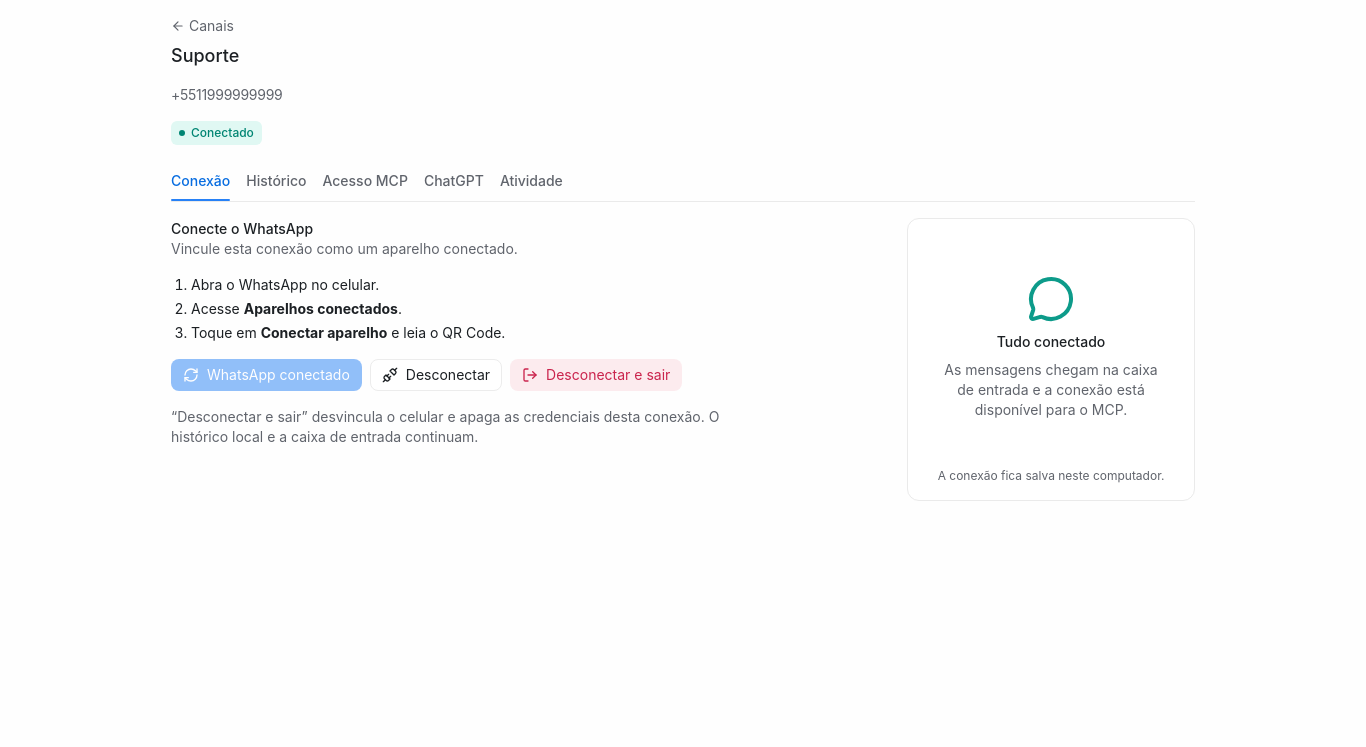
WhatsApp history viewer › filters chats, opens messages and pages back to older ones
Click the tab "Histórico".
click(276, 181)  # box [246,161,306,201]
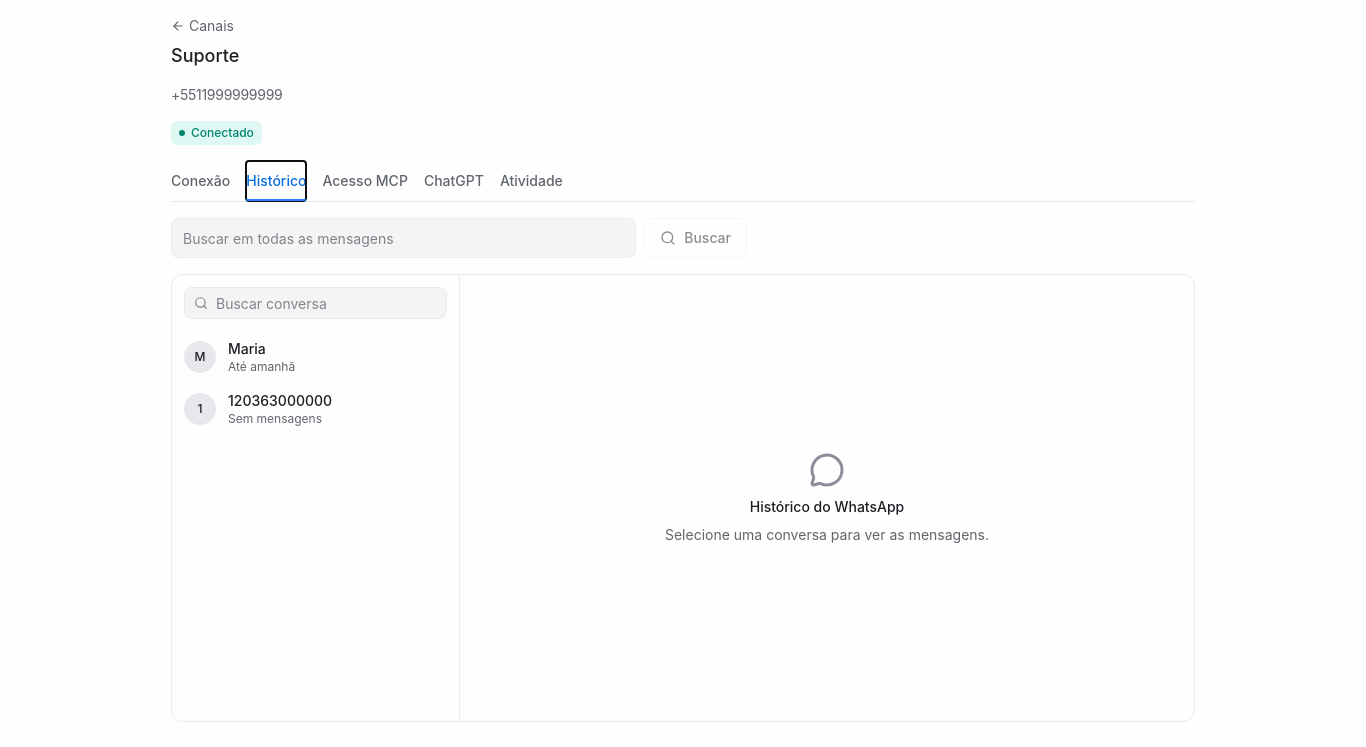
Expected: the text "Maria" is shown, [228,340,266,357]
Expected: the text "120363000000" is shown, [228,391,332,411]
Expected: the text "Sem mensagens" is shown, [228,411,332,427]
Type "mar" into the field labelled "Buscar conversa".
click(316, 303); type("mar")  # box [184,287,447,319]
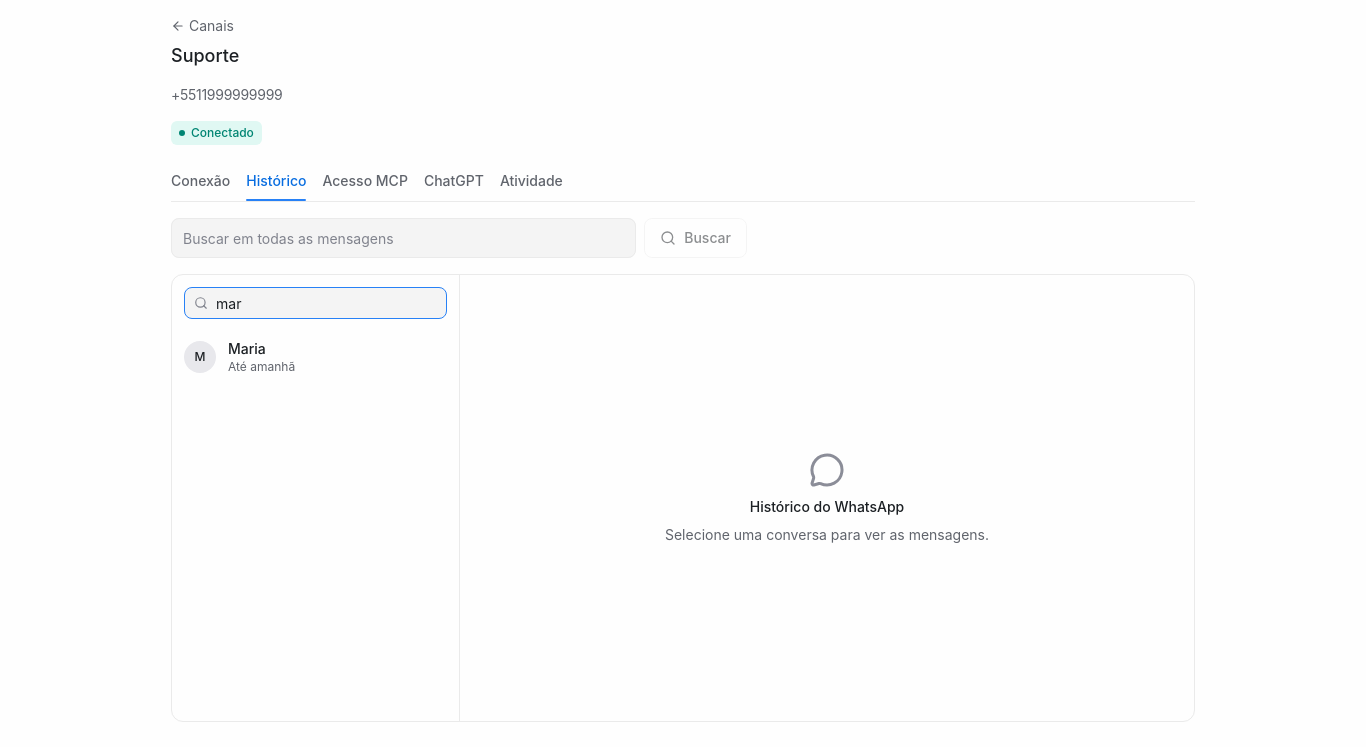
Expected: the button "120363000000" is gone
Click the text "Maria".
click(247, 348)  # box [228,340,266,357]
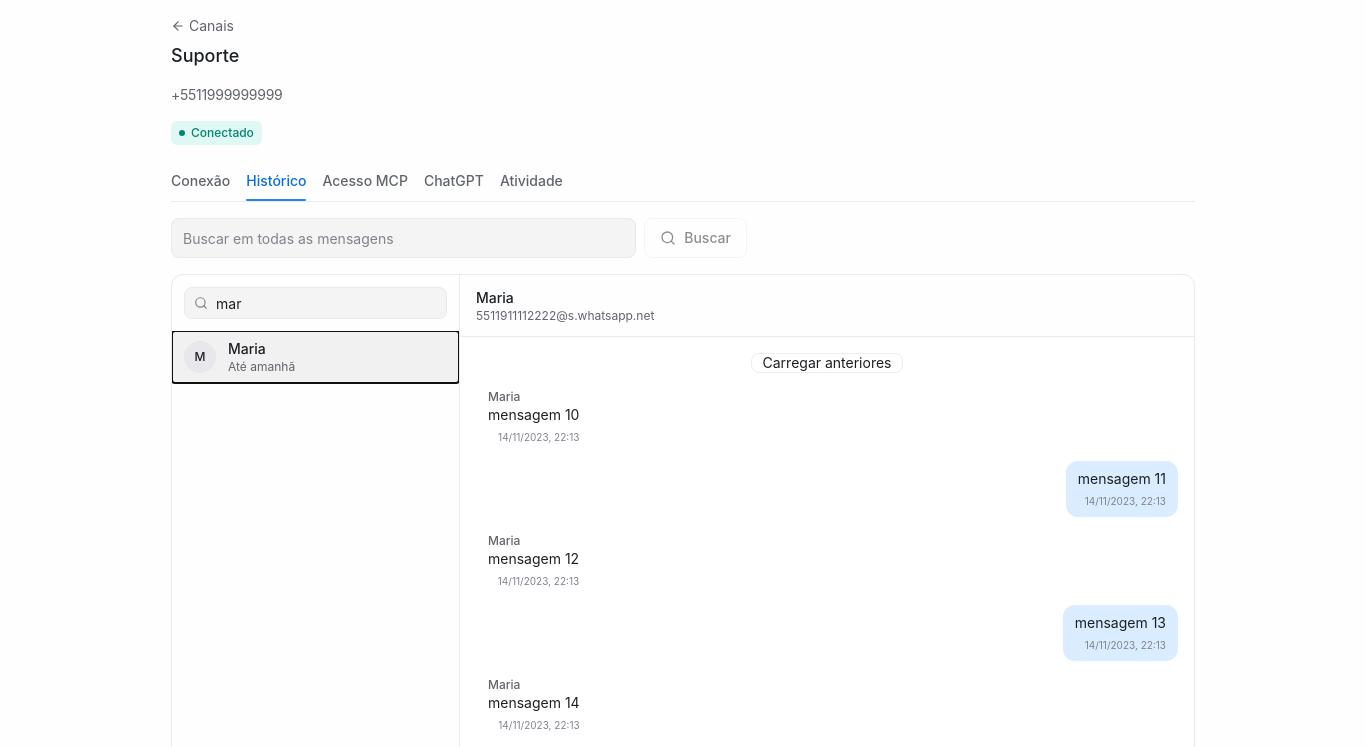
Expected: the text "5511911112222@s.whatsapp.net" is shown, [476,308,654,323]
Click the button "Carregar anteriores".
click(827, 363)  # box [750,353,904,373]
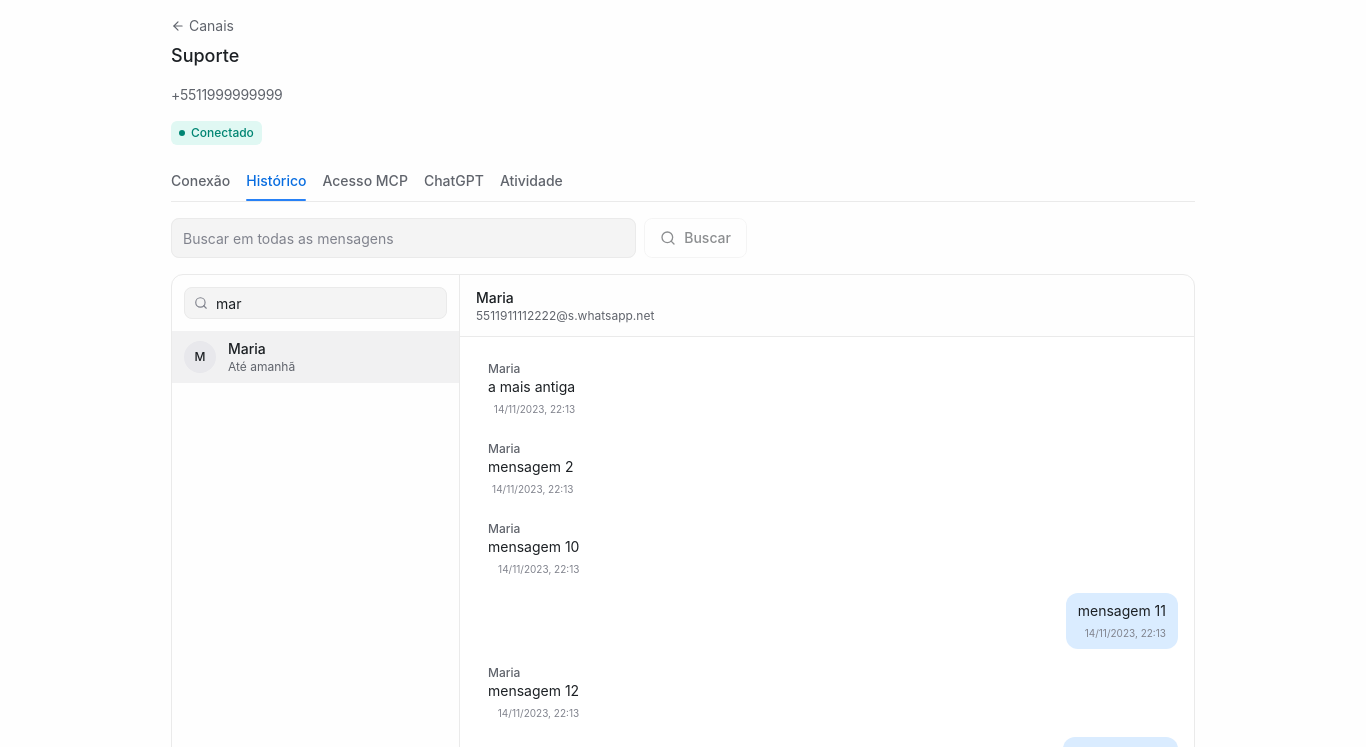
Expected: the text "a mais antiga" is shown, [488,377,575,397]
Expected: the button "Carregar anteriores" is gone
